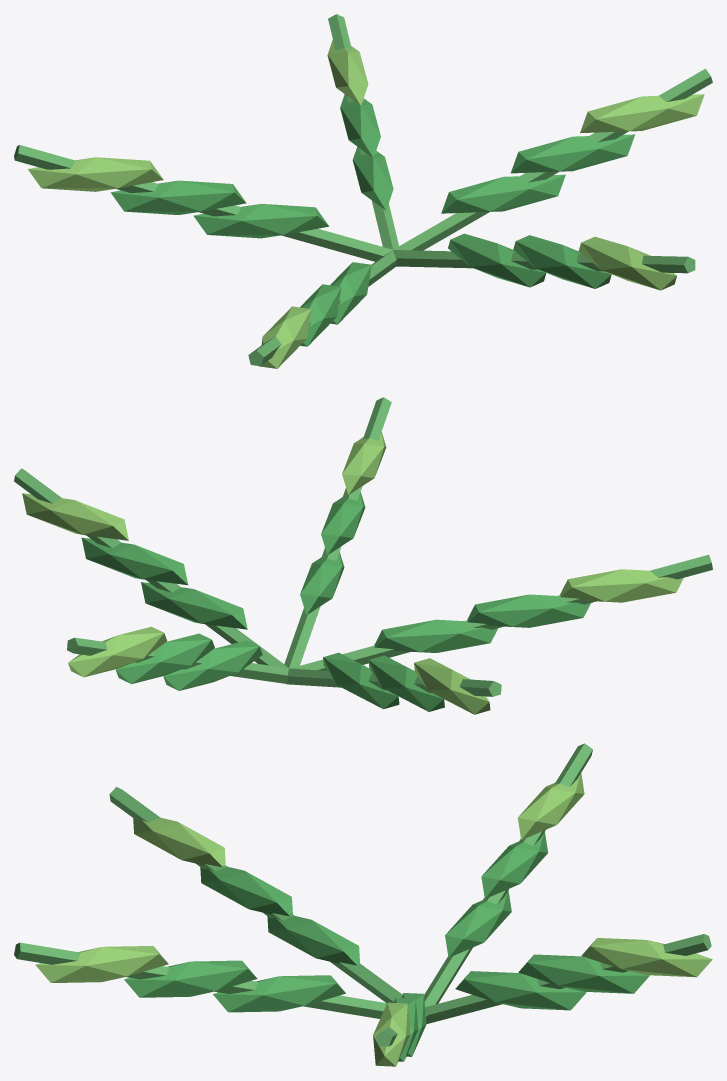
The model's file is fern_c.glb.
3 renders of one model, top to bottom at view 1: azimuth 30°, elevation 25°; view 2: azimuth 150°, elevation 25°; view 3: azimuth 270°, elevation 25°, orthographic. The views are drawn at different scales.
Visible parts, largest first — view 1: Leaf_3_3.002, Leaf_3_2.002, Leaf_3_1.002, Leaf_1_1.002, Leaf_1_2.002, Leaf_1_3.002, Stem_3.002, Stem_1.002, Leaf_5_3.002, Leaf_5_1.002, Leaf_5_2.002, Stem_5.002 (+8 smaller); view 2: Leaf_4_2.002, Leaf_4_3.002, Leaf_4_1.002, Leaf_1_3.002, Leaf_1_1.002, Leaf_1_2.002, Leaf_2_3.002, Leaf_2_2.002, Leaf_2_1.002, Stem_4.002, Leaf_3_3.002, Stem_1.002 (+8 smaller); view 3: Leaf_5_3.002, Leaf_5_2.002, Leaf_5_1.002, Leaf_2_3.002, Leaf_2_2.002, Leaf_2_1.002, Stem_5.002, Leaf_4_1.002, Leaf_4_2.002, Leaf_4_3.002, Leaf_3_2.002, Leaf_3_1.002 (+7 smaller).
Part boxes in pixels (x1,y1,x2,y2): Leaf_3_3.002: (28, 157, 163, 191); Leaf_3_2.002: (110, 180, 246, 214); Leaf_3_1.002: (193, 203, 329, 238); Leaf_1_1.002: (441, 174, 565, 213); Leaf_1_2.002: (511, 134, 635, 173); Leaf_1_3.002: (580, 94, 704, 133); Stem_3.002: (14, 145, 392, 261); Stem_1.002: (393, 68, 712, 250); Leaf_5_3.002: (578, 236, 676, 290); Leaf_5_1.002: (448, 233, 546, 287); Leaf_5_2.002: (513, 235, 611, 288); Stem_5.002: (393, 250, 695, 273); Leaf_4_2.002: (467, 594, 590, 627); Leaf_4_3.002: (560, 569, 683, 602); Leaf_4_1.002: (374, 619, 497, 652); Leaf_1_3.002: (22, 493, 128, 540); Leaf_1_1.002: (141, 582, 247, 629); Leaf_1_2.002: (81, 537, 188, 585); Leaf_2_3.002: (68, 626, 167, 677); Leaf_2_2.002: (116, 633, 214, 684); Leaf_2_1.002: (163, 640, 262, 690); Stem_4.002: (290, 554, 712, 670); Leaf_3_3.002: (414, 658, 490, 714); Stem_1.002: (14, 468, 288, 668); Leaf_5_3.002: (35, 946, 168, 982); Leaf_5_2.002: (124, 960, 257, 997); Leaf_5_1.002: (213, 975, 345, 1012); Leaf_2_3.002: (581, 938, 712, 977); Leaf_2_2.002: (518, 954, 649, 993); Leaf_2_1.002: (455, 971, 586, 1010); Stem_5.002: (14, 942, 386, 1018); Leaf_4_1.002: (267, 916, 360, 965); Leaf_4_2.002: (200, 867, 292, 916); Leaf_4_3.002: (133, 818, 225, 867); Leaf_3_2.002: (481, 832, 548, 898); Leaf_3_1.002: (445, 890, 511, 957).
Bounding box in the file's own units: 1.99 × 0.4351 × 1.98.
